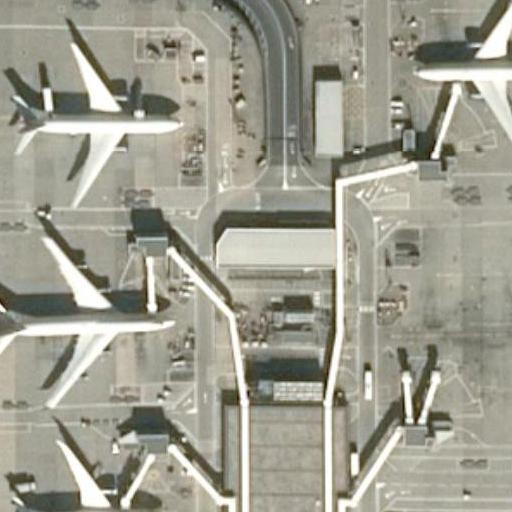Aircraft: (0, 234, 174, 409), (13, 35, 180, 209), (406, 0, 512, 158), (3, 437, 157, 512)
